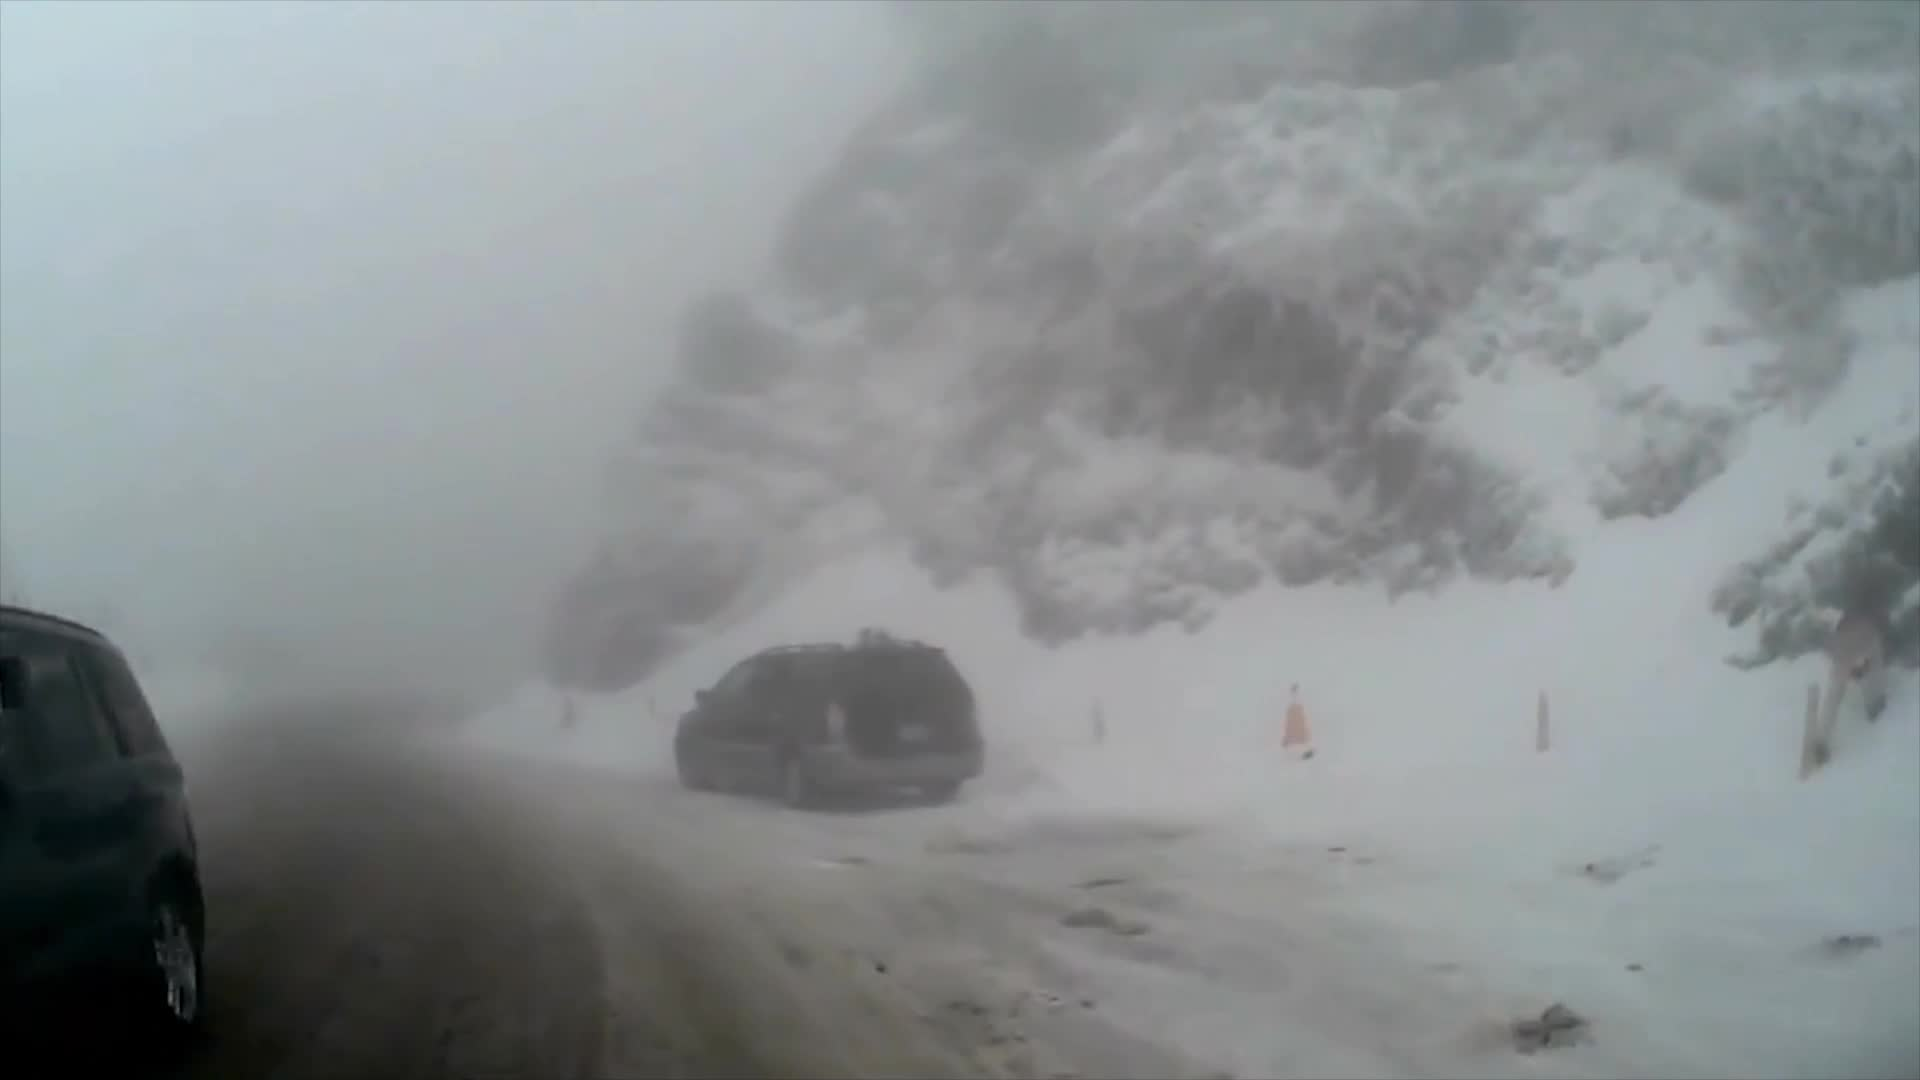vehicle: (0, 603, 211, 1080), (673, 640, 984, 807)
